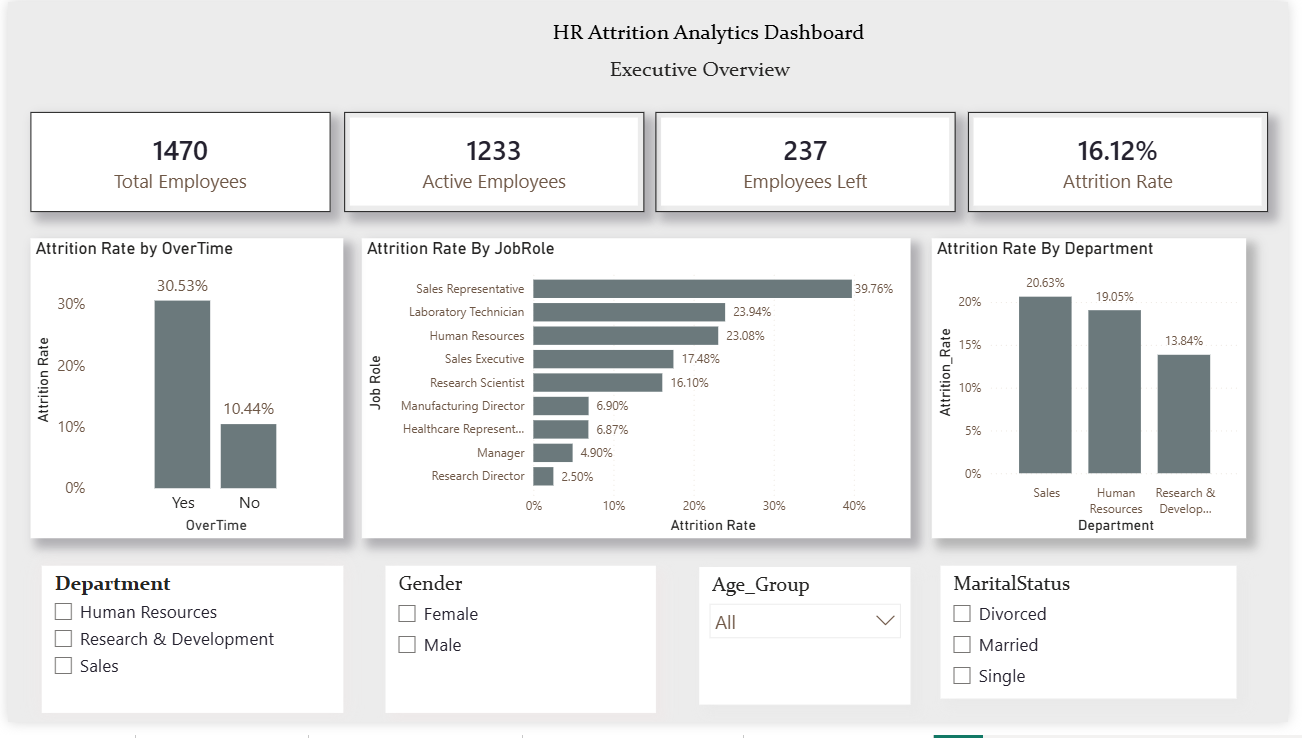

What the dashboard file says about the page in this screenshot:
{"tool":"powerbi","page":{"name":"1_Executive_OverView","canvas":[1280,720],"ordinal":0},"visuals":[{"type":"clusteredColumnChart","title":"Attrition Rate By Department","fields":{"Category":["Dim_Job.Department"],"Y":["Fact_Attrition.Attrition_Rate"]},"box":[924.3,235.7,314.3,300],"z":0},{"type":"barChart","title":"Attrition Rate By JobRole","fields":{"Category":["Dim_Job.JobRole"],"Y":["Fact_Attrition.Attrition_Rate"]},"box":[354.3,235.7,548.6,300],"z":1000},{"type":"columnChart","title":"Attrition Rate by OverTime","fields":{"Category":["Dim_Job.OverTime"],"Y":["Fact_Attrition.Attrition_Rate"]},"box":[22.5,236.2,312.5,300],"z":2000},{"type":"cardVisual","title":"Attrition Rate By OverTime","fields":{"Data":["Fact_Attrition.Total_Employees"]},"box":[22.9,110,300,100],"z":3000},{"type":"cardVisual","fields":{"Data":["Fact_Attrition.Active_Employees"]},"box":[335.7,110,300,100],"z":4000},{"type":"cardVisual","fields":{"Data":["Fact_Attrition.Attrited_Employees"]},"box":[647.1,110,300,100],"z":5000},{"type":"cardVisual","fields":{"Data":["Fact_Attrition.Attrition_Rate"]},"box":[960,110,300,100],"z":6000},{"type":"slicer","fields":{"Values":["Dim_Job.Department"]},"box":[34.3,564.3,301.4,147.1],"z":7000},{"type":"slicer","fields":{"Values":["Dim_Employee.Gender"]},"box":[377.5,563.8,270,147.5],"z":8000},{"type":"slicer","fields":{"Values":["Dim_Employee.Age_Group"]},"box":[691.2,565,211.2,137.5],"z":9000},{"type":"slicer","fields":{"Values":["Dim_Employee.MaritalStatus"]},"box":[932.5,563.8,296.2,132.5],"z":10000},{"type":"textbox","box":[477.5,12.5,446.2,48.8],"z":11000},{"type":"textbox","box":[561.2,48.8,261.2,48.8],"z":12000}]}

Visuals, with their boxes in screenshot pixels (x1, y1, x2, y2), scaled from the page's 1280x720 canvas onto the 1302x738 screenshot:
"Attrition Rate By Department" clusteredColumnChart: left=940, top=242, right=1260, bottom=549
"Attrition Rate By JobRole" barChart: left=360, top=242, right=918, bottom=549
"Attrition Rate by OverTime" columnChart: left=23, top=242, right=341, bottom=550
"Attrition Rate By OverTime" cardVisual: left=23, top=113, right=328, bottom=215
cardVisual - Fact_Attrition.Active_Employees: left=341, top=113, right=647, bottom=215
cardVisual - Fact_Attrition.Attrited_Employees: left=658, top=113, right=963, bottom=215
cardVisual - Fact_Attrition.Attrition_Rate: left=976, top=113, right=1282, bottom=215
slicer - Dim_Job.Department: left=35, top=578, right=341, bottom=729
slicer - Dim_Employee.Gender: left=384, top=578, right=659, bottom=729
slicer - Dim_Employee.Age_Group: left=703, top=579, right=918, bottom=720
slicer - Dim_Employee.MaritalStatus: left=949, top=578, right=1250, bottom=714
textbox: left=486, top=13, right=940, bottom=63
textbox: left=571, top=50, right=837, bottom=100
